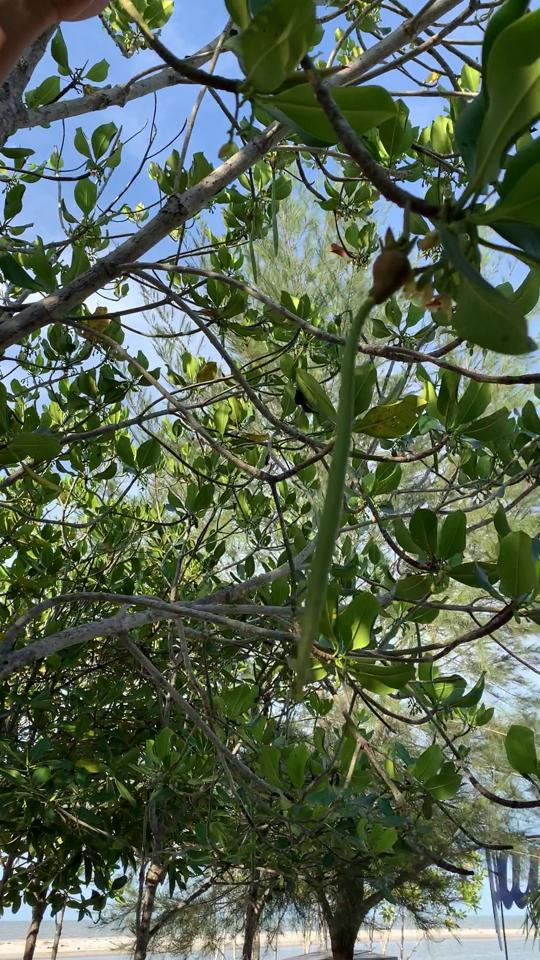mentah: (275, 221, 420, 710)
